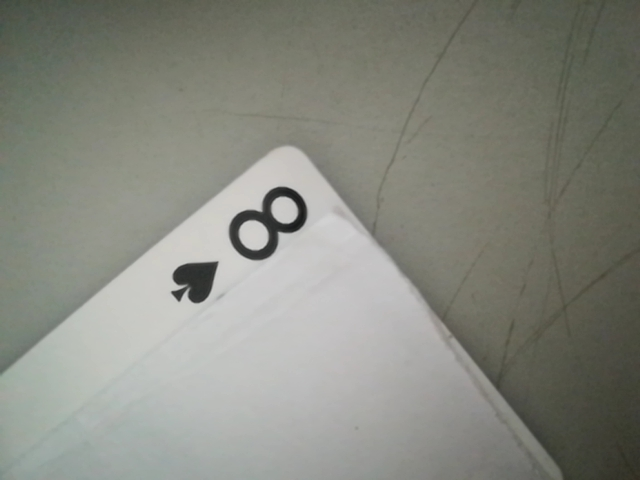ht 8: (163, 171, 329, 304)
